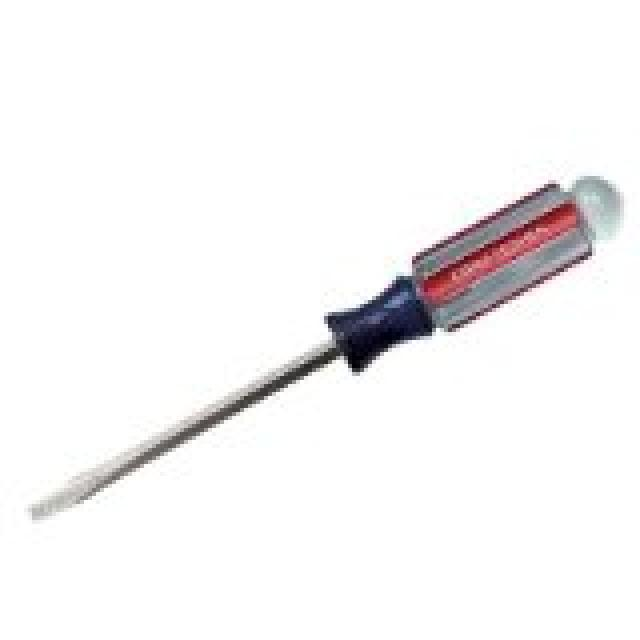screwdriver: (5, 155, 635, 542)
